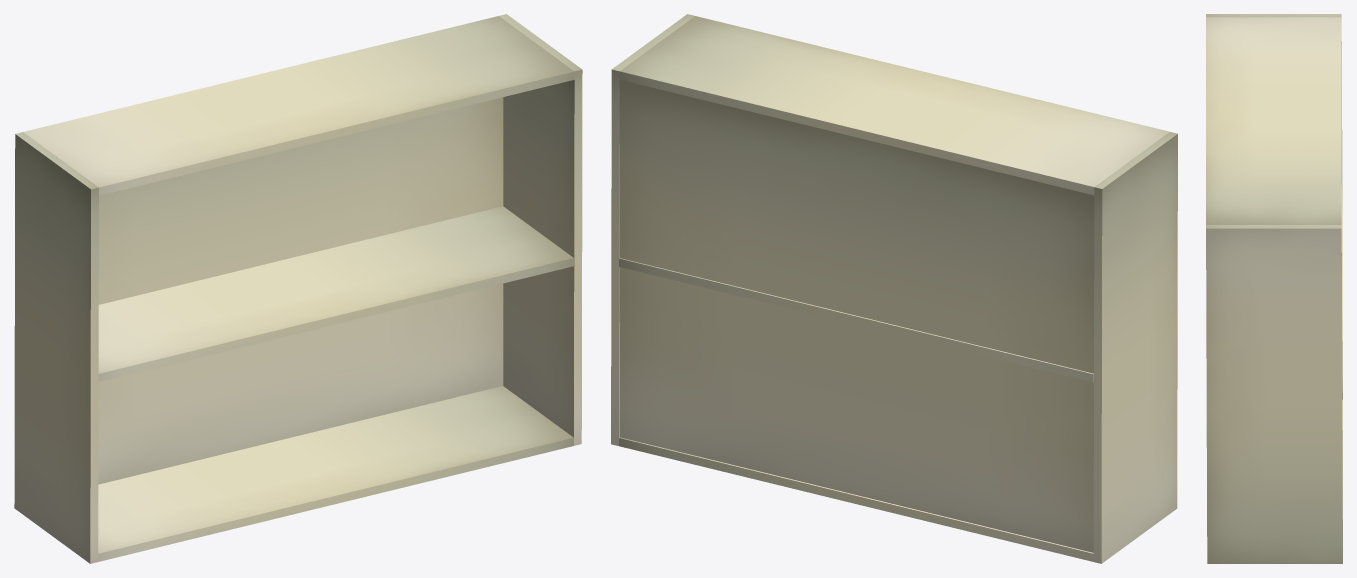
Rendered from cabin04aa.fbx.
The picture shows the model from 3 angles, left to right: view 1: azimuth 30°, elevation 25°; view 2: azimuth 150°, elevation 25°; view 3: azimuth 270°, elevation 25°; orthographic projection. The views are drawn at different scales.
Parts seen in each view (by area): view 1: cabin04aa; view 2: cabin04aa; view 3: cabin04aa.
Boxes of the visible parts, <box> form: cabin04aa: <box>14,14,582,563</box>; cabin04aa: <box>611,14,1177,563</box>; cabin04aa: <box>1206,14,1342,563</box>.
Bounding box in the file's own units: 1.24 × 0.9041 × 0.3345.
